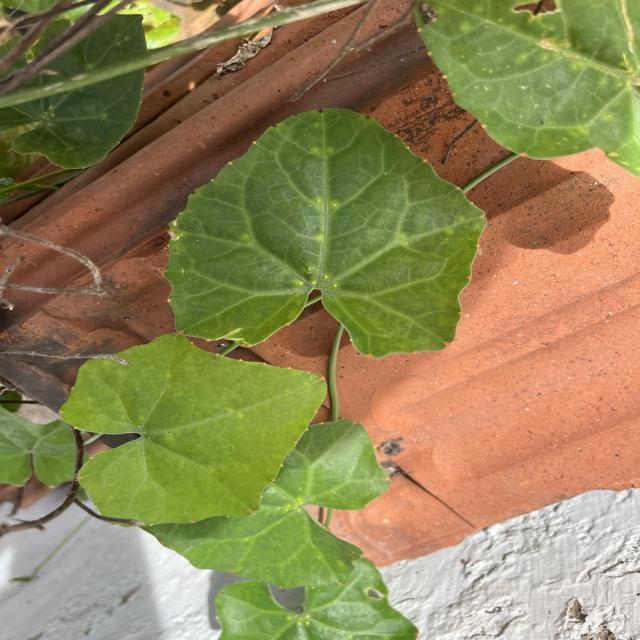Coccinia grandis: (159, 104, 491, 360), (57, 331, 329, 528)
